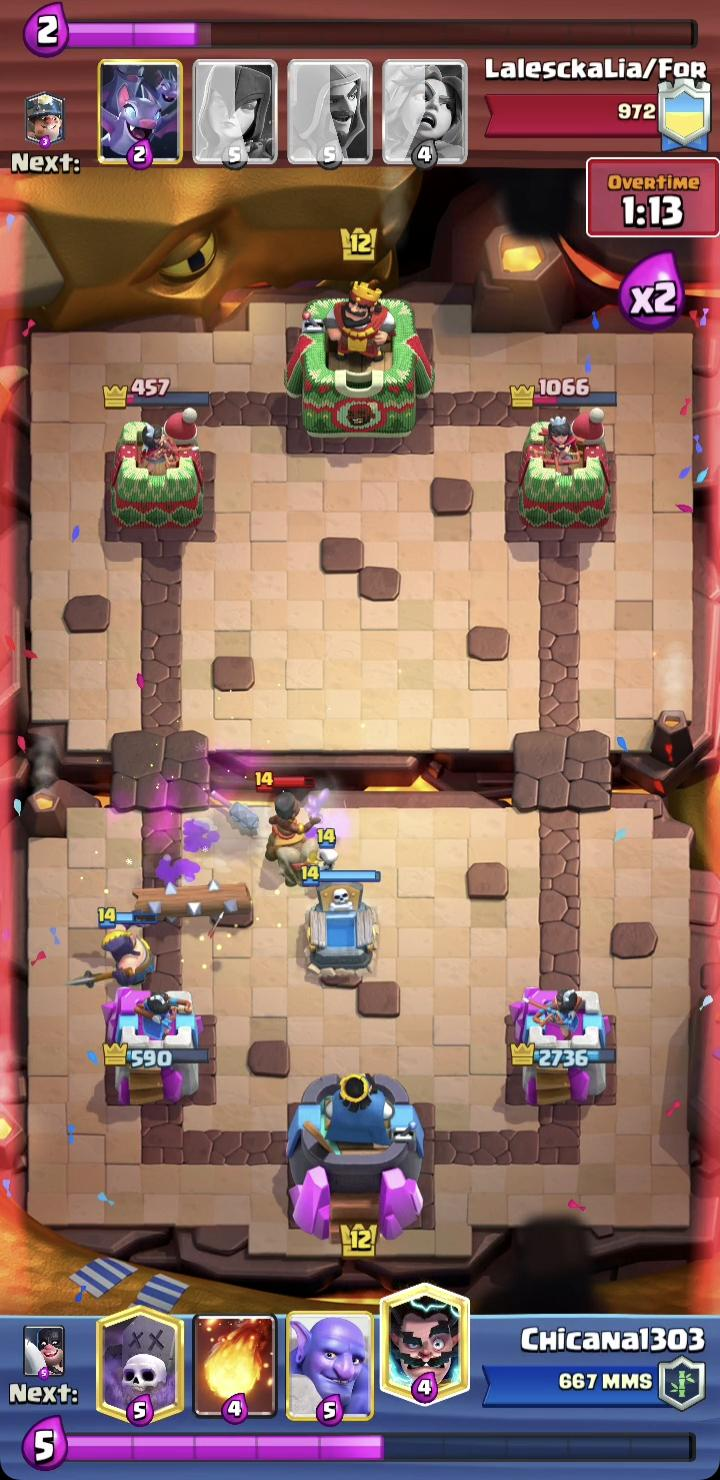ally_executioner: (67, 906, 160, 989)
ally_skeleton: (309, 827, 341, 874)
ally_tombstone: (298, 863, 382, 978)
enemy_log: (133, 881, 254, 925)
enemy_ramrider: (254, 770, 331, 884)
